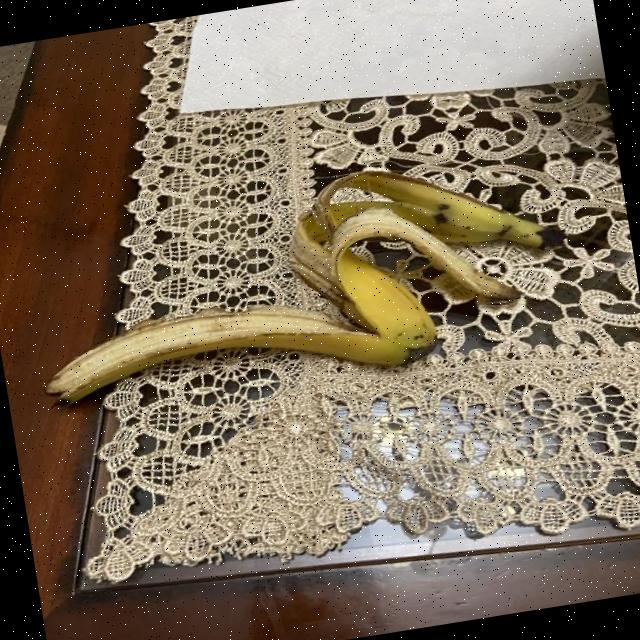banana-peel: (17, 142, 565, 422)
